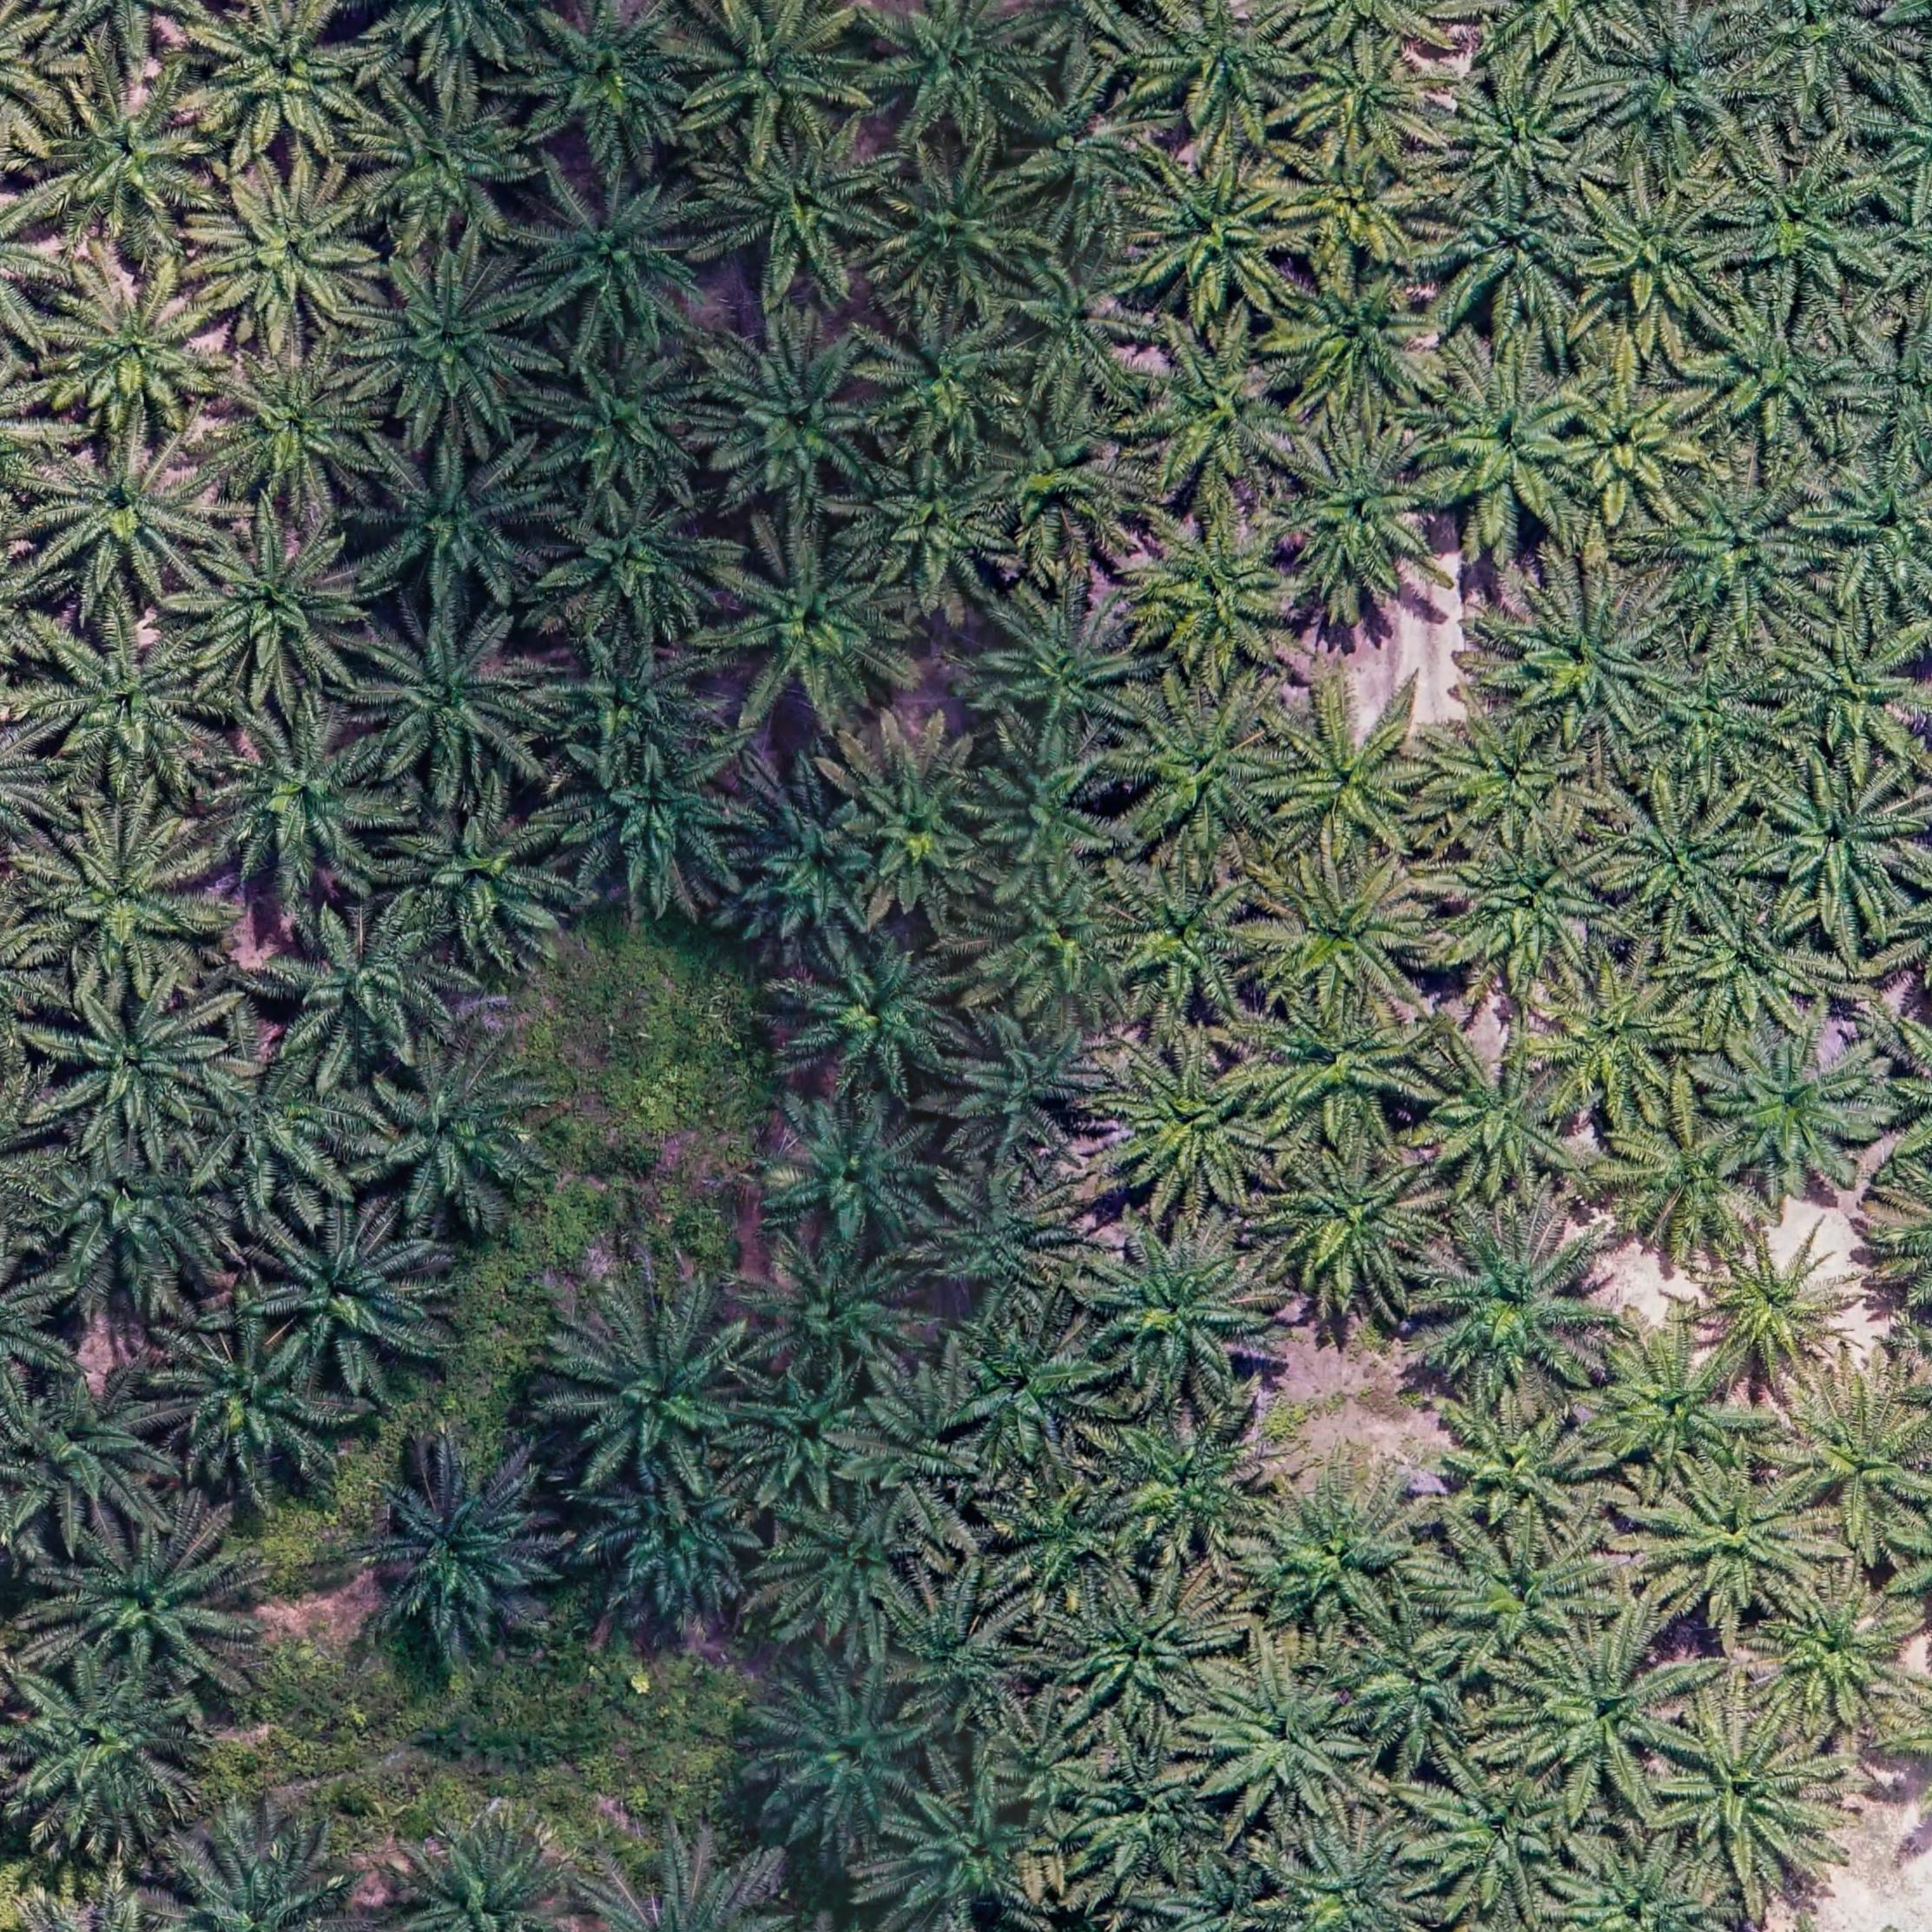palmtree: (709, 525, 927, 740), (552, 1288, 764, 1491), (18, 1127, 244, 1315), (35, 1513, 253, 1697), (520, 157, 725, 352), (9, 1651, 211, 1847), (701, 320, 901, 517), (205, 709, 405, 904), (364, 1460, 564, 1654), (350, 249, 552, 441), (21, 801, 225, 991), (1414, 1212, 1610, 1403), (699, 122, 906, 303), (193, 159, 391, 347), (752, 1660, 947, 1849), (25, 617, 226, 800), (354, 603, 550, 789), (354, 1046, 552, 1230), (1415, 349, 1598, 548), (149, 1313, 349, 1495), (545, 740, 759, 909), (1654, 1709, 1847, 1897), (251, 1201, 442, 1389), (28, 64, 221, 249), (39, 257, 230, 442), (1272, 425, 1458, 616), (188, 517, 382, 699), (354, 439, 554, 616), (28, 430, 225, 609), (377, 793, 573, 968), (1123, 497, 1309, 681), (1265, 685, 1449, 869), (265, 901, 462, 1072), (1635, 1458, 1833, 1628), (1086, 1221, 1276, 1398), (962, 584, 1157, 755), (784, 931, 978, 1102), (191, 2, 389, 170), (354, 74, 541, 251), (1491, 564, 1668, 752), (839, 732, 1012, 924), (1111, 683, 1295, 862), (1513, 1624, 1698, 1801), (1431, 817, 1622, 989), (520, 2, 711, 173), (577, 1458, 771, 1626), (1123, 324, 1307, 501), (0, 1364, 175, 1550), (41, 978, 230, 1150), (531, 341, 720, 513), (207, 341, 393, 515), (1097, 1039, 1284, 1210), (1649, 462, 1833, 635), (674, 2, 874, 159), (743, 1230, 939, 1389), (1270, 257, 1454, 426), (1127, 149, 1307, 320), (1709, 1024, 1893, 1192), (768, 1095, 954, 1261), (1753, 759, 1928, 934), (1253, 860, 1442, 1021), (1263, 1138, 1447, 1302), (1253, 991, 1440, 1152), (1198, 1654, 1376, 1822), (970, 863, 1150, 1030), (729, 778, 895, 959), (842, 448, 1024, 612), (1424, 1394, 1614, 1552), (1253, 1483, 1437, 1644), (996, 237, 1164, 412), (872, 147, 1049, 313), (547, 485, 734, 640), (538, 633, 724, 787), (1702, 1219, 1875, 1384), (1414, 1039, 1591, 1200), (191, 1046, 375, 1200), (885, 1769, 1062, 1928), (862, 0, 1051, 149), (1058, 1571, 1238, 1727), (982, 393, 1150, 559), (860, 299, 1031, 462), (1571, 180, 1743, 343), (1415, 1752, 1587, 1914), (945, 1008, 1120, 1168), (1591, 1325, 1767, 1483), (1430, 1525, 1615, 1674), (1591, 9, 1764, 168), (1099, 1408, 1277, 1560), (764, 1495, 936, 1652), (1109, 865, 1274, 1024), (1007, 65, 1166, 228), (1534, 968, 1698, 1125), (1426, 177, 1592, 333), (920, 1168, 1088, 1320), (1753, 1569, 1916, 1725), (1603, 1109, 1767, 1263), (1695, 297, 1861, 449), (1129, 0, 1309, 138), (1773, 607, 1932, 763), (1778, 1380, 1932, 1541), (971, 734, 1132, 888), (1072, 1737, 1233, 1891), (1421, 702, 1587, 851), (1276, 134, 1445, 280), (157, 1822, 379, 1932), (954, 1322, 1116, 1470), (1723, 149, 1888, 295), (1672, 893, 1831, 1044), (1605, 787, 1767, 932), (380, 1822, 594, 1932), (1338, 1610, 1491, 1762), (1437, 64, 1599, 205), (1573, 366, 1713, 527), (892, 1583, 1039, 1734), (734, 1359, 890, 1500), (1638, 653, 1792, 793), (1292, 37, 1456, 166), (1732, 0, 1909, 111), (1272, 1821, 1438, 1932), (993, 1474, 1138, 1601), (1817, 456, 1932, 612), (1550, 1836, 1732, 1932), (865, 1371, 993, 1490), (1845, 331, 1932, 478), (1003, 1706, 1108, 1815)
